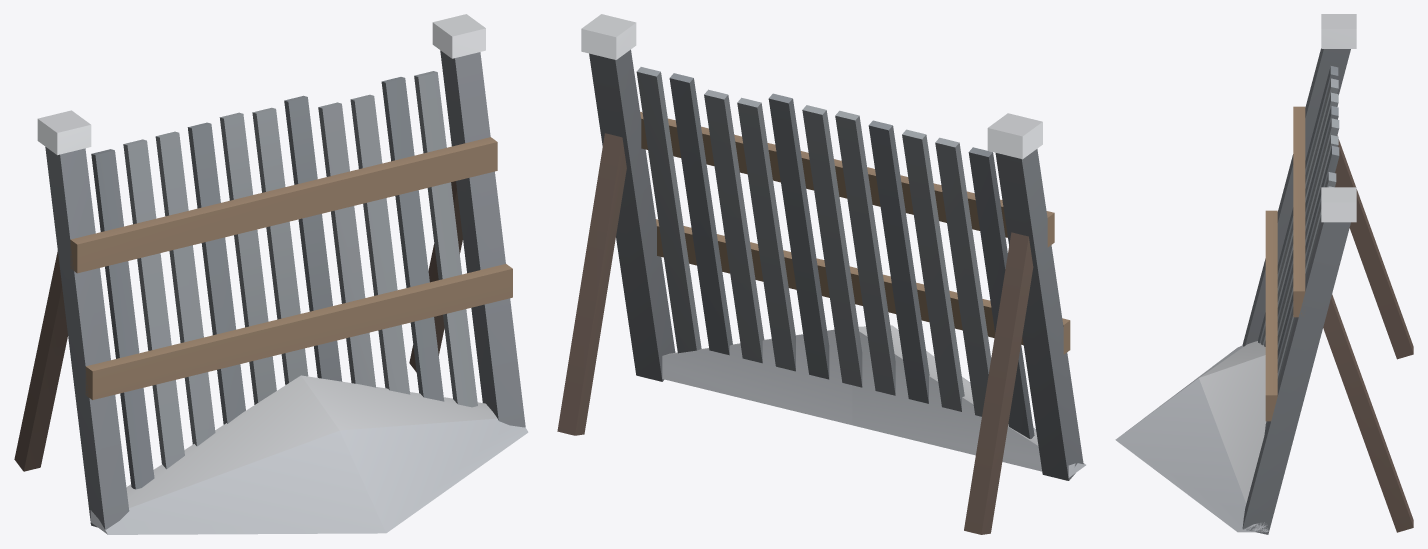
File: fence.lod1.glb
The picture shows the model from 3 angles, left to right: view 1: azimuth 30°, elevation 25°; view 2: azimuth 150°, elevation 25°; view 3: azimuth 270°, elevation 25°; orthographic projection. The views are drawn at different scales.
Size of the model in its own units: 2.02 by 1.67 by 1.35.
